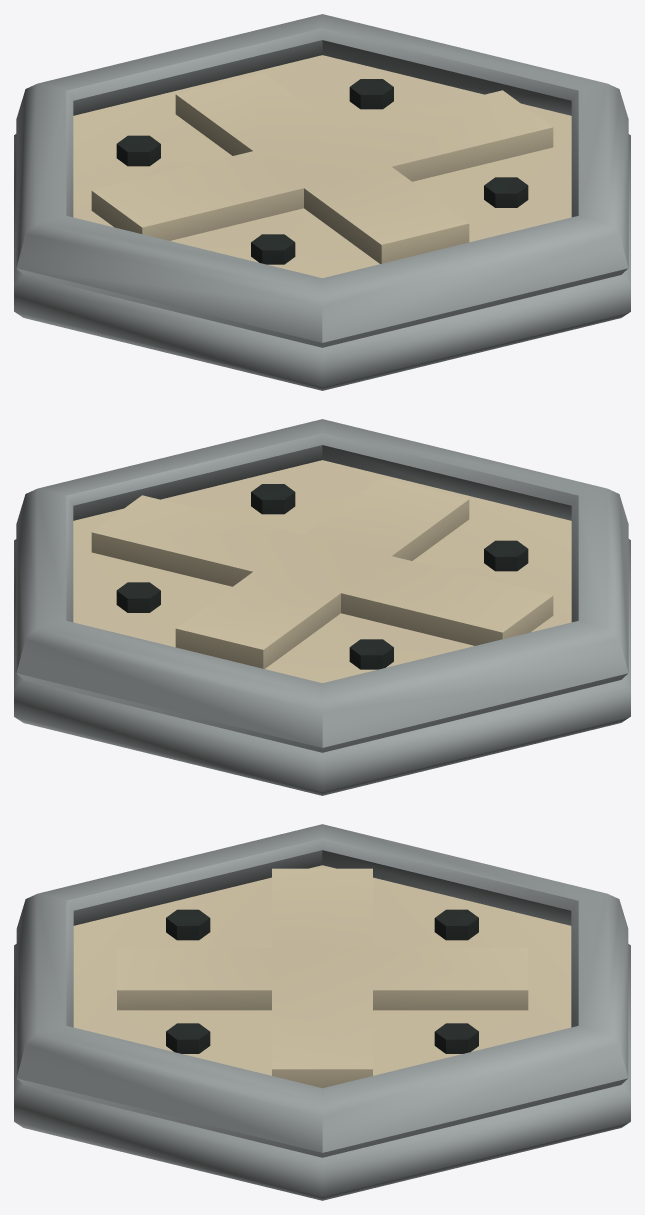
Rendered from panel_tile.glb.
3 views of the same model, one above another, from view 1: azimuth 30°, elevation 25°; view 2: azimuth 150°, elevation 25°; view 3: azimuth 270°, elevation 25° (orthographic).
Parts seen in each view (by area): view 1: panel_tile; view 2: panel_tile; view 3: panel_tile.
Part boxes in pixels (x1,y1,x2,y2): panel_tile: (14,14,630,390); panel_tile: (14,419,630,795); panel_tile: (14,824,630,1200).
Bounding box in the file's own units: 0.45 × 0.064 × 0.39.
